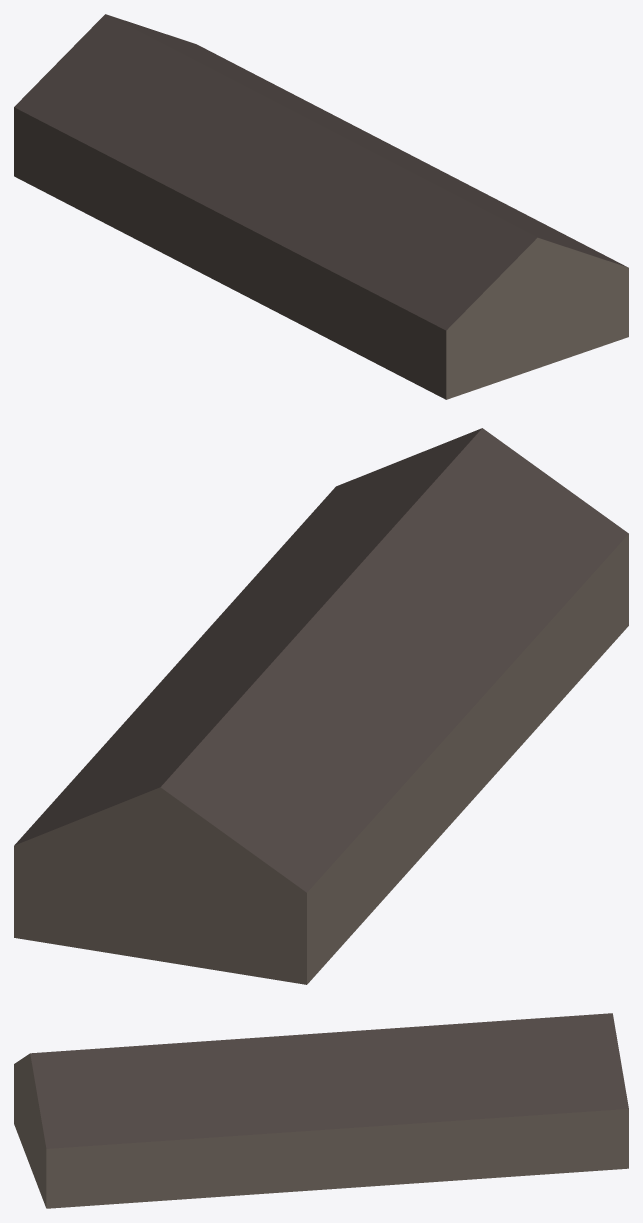
The picture shows the model from 3 angles, top to bottom: view 1: azimuth 30°, elevation 25°; view 2: azimuth 150°, elevation 25°; view 3: azimuth 270°, elevation 25°; orthographic projection. The views are drawn at different scales.
Parts seen in each view (by area): view 1: HP-w408450636; view 2: HP-w408450636; view 3: HP-w408450636.
Part boxes in pixels (x1=…): HP-w408450636: x1=14, y1=14, x2=628, y2=399; HP-w408450636: x1=14, y1=428, x2=628, y2=984; HP-w408450636: x1=14, y1=1013, x2=628, y2=1208.
Size of the model in its own units: 13.45 by 5.67 by 27.96.
